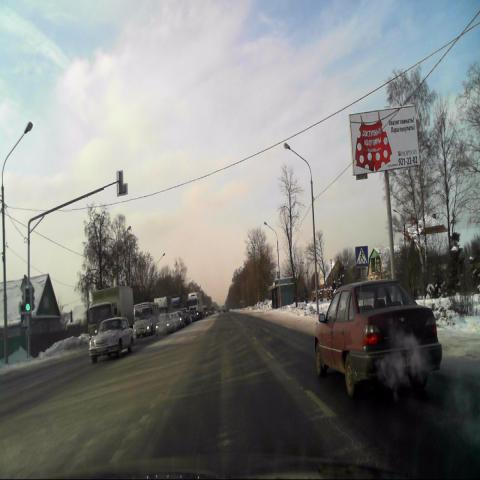5_19_1: (356, 246, 368, 267)
